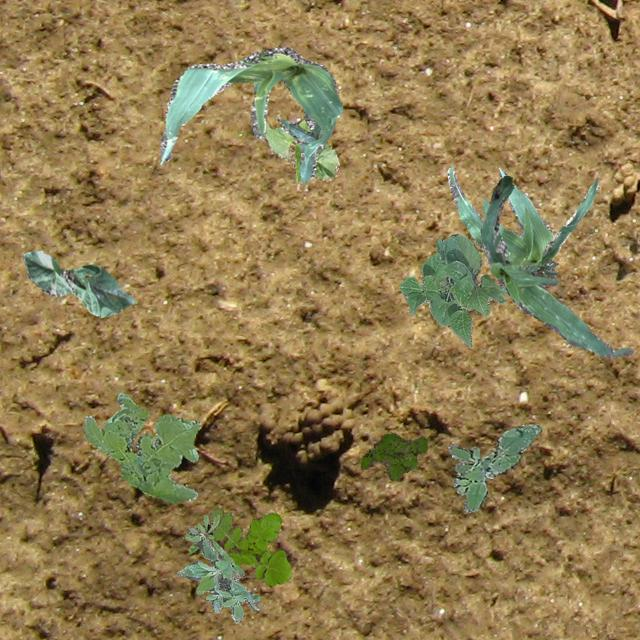crop: (479, 175, 632, 356), (158, 46, 342, 182), (446, 165, 598, 292), (398, 232, 504, 346), (22, 250, 134, 316), (262, 116, 338, 182)
weed: (82, 392, 200, 502), (446, 424, 540, 512), (176, 526, 260, 622), (208, 508, 290, 586), (359, 432, 426, 480), (184, 514, 226, 556)
